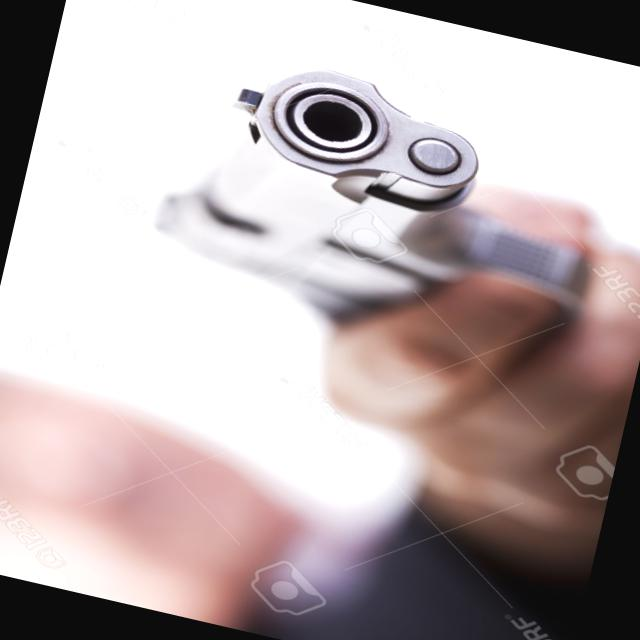handgun: (110, 28, 639, 389)
